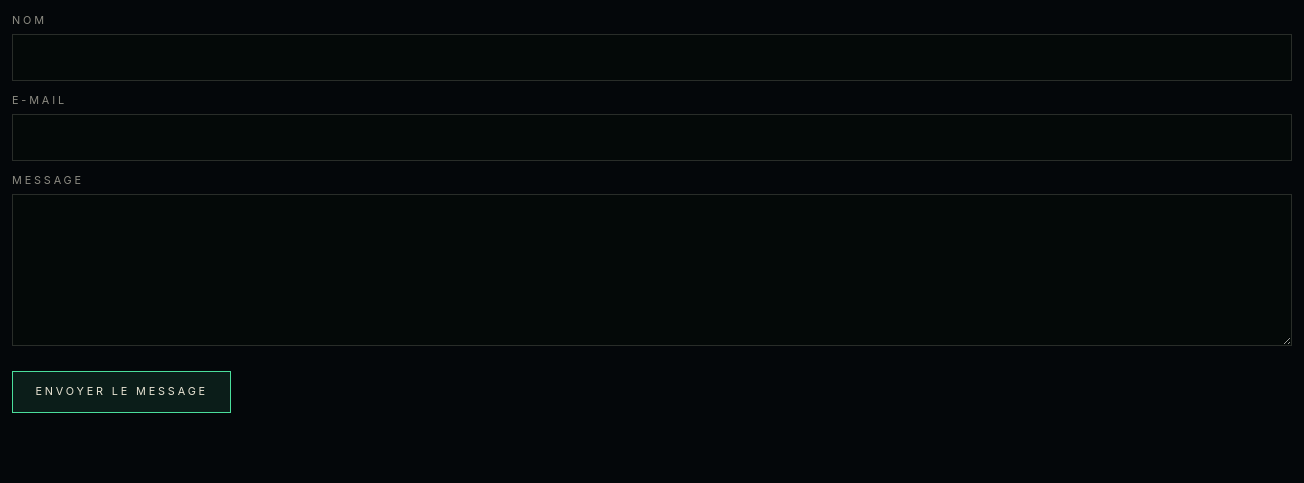
Test: ContactForm › affiche les erreurs de champ renvoyées par le serveur
The image size is (1304, 483).
In the field labelled "Nom": (652, 58) [12,34,1292,82], type "Camille Bertin"
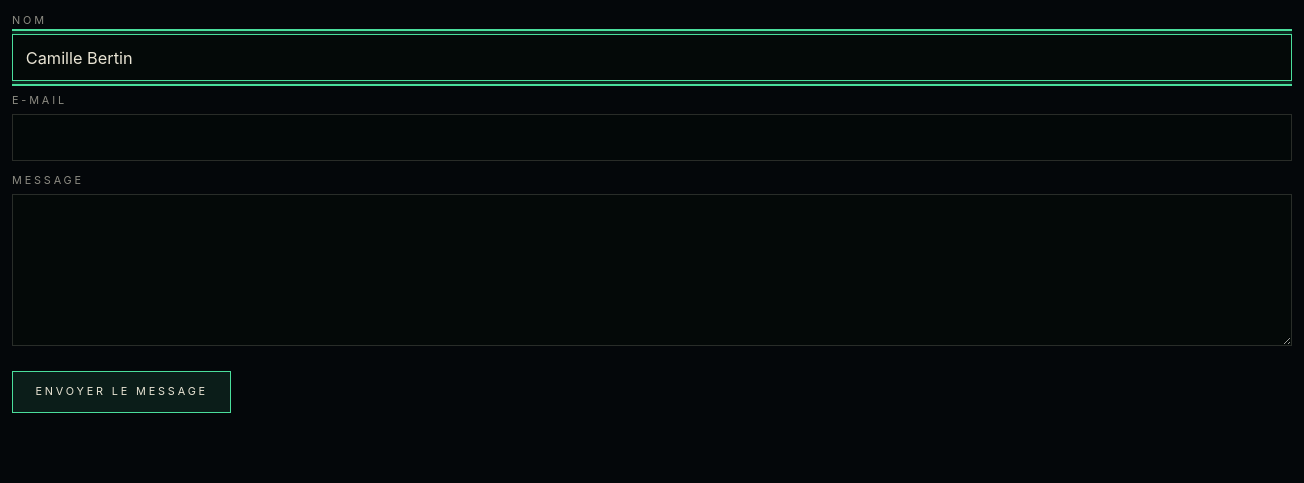
In the field labelled "E-mail": (652, 138) [12,114,1292,161], type "camille@example.com"
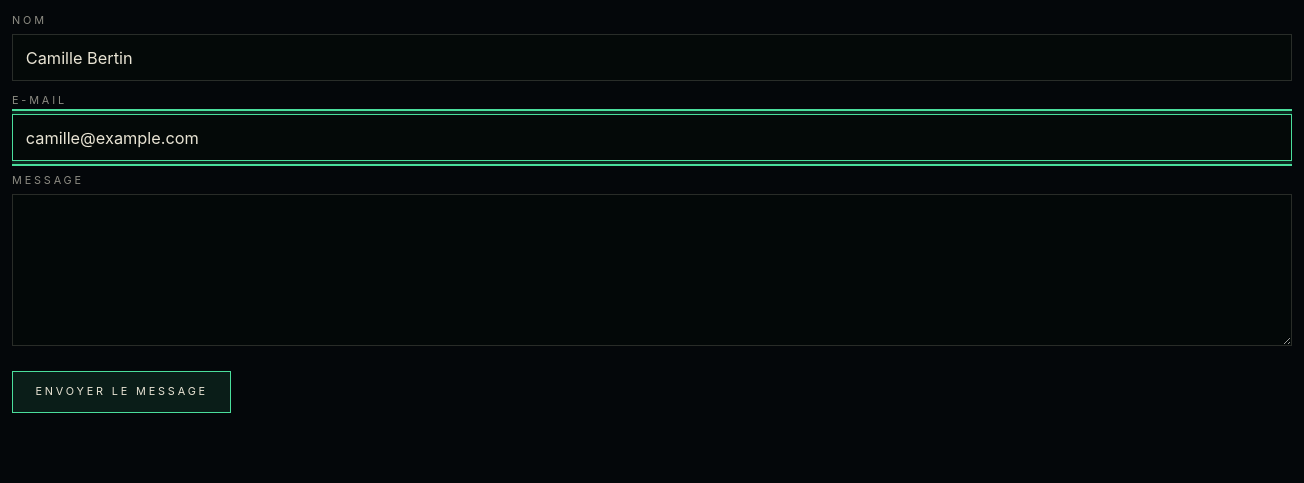
In the text box labelled "Message": (652, 270) [12,194,1292,346], type "Bonjour, je cherche un développeur pour un projet Next.js."
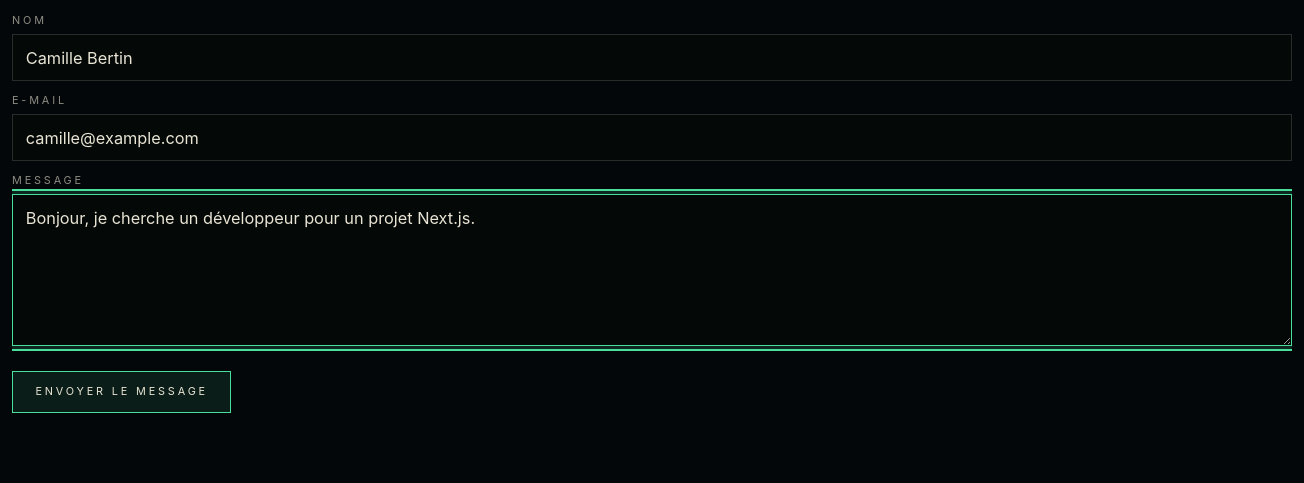
Click the button "Envoyer le message": (122, 392) [12,371,231,413]
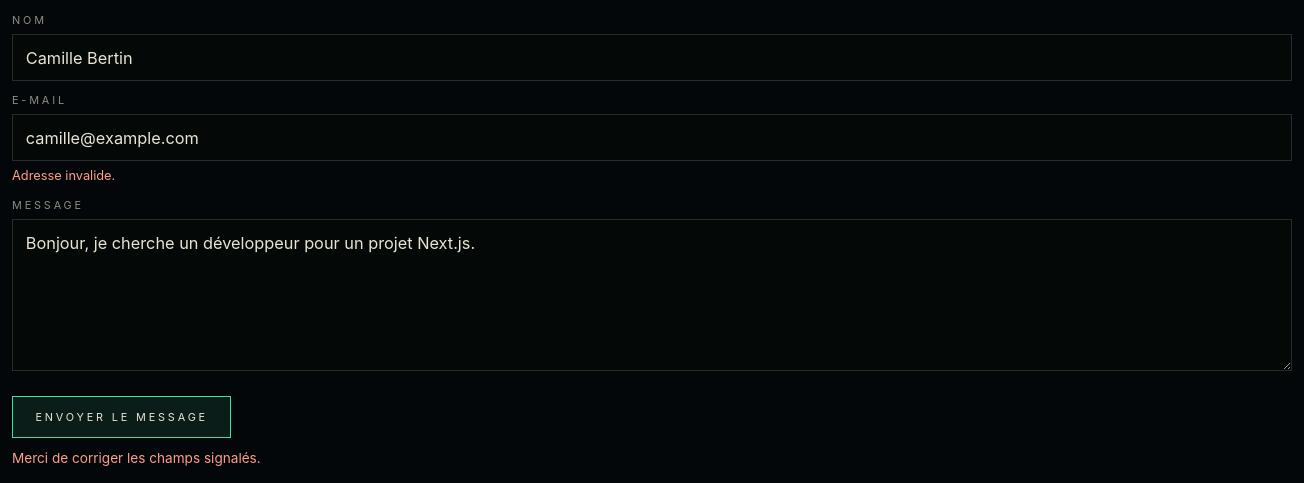
Now the text "Adresse invalide." is shown, box [12,168,115,183]
